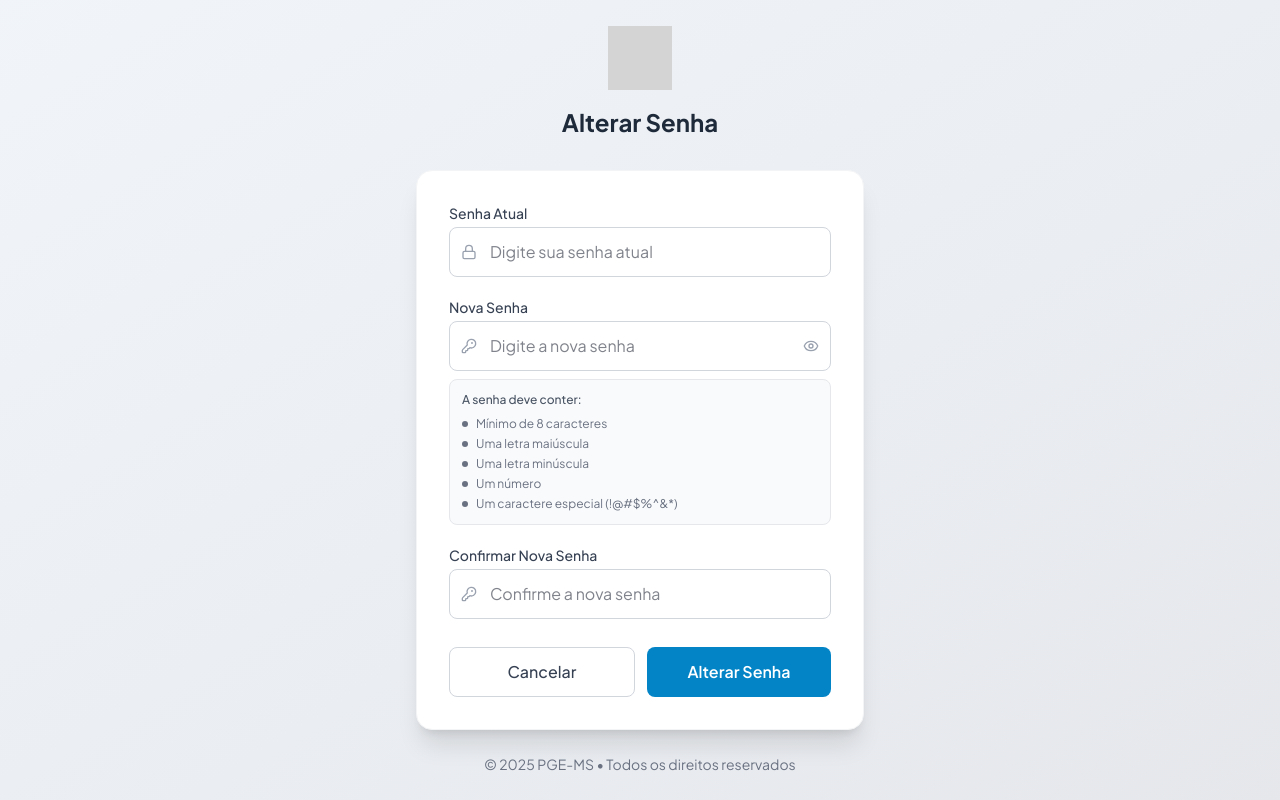
Scenario: ChangePasswordPage › deve exibir erro quando senhas nao coincidem
Type "senhaAtual123" into the password field labelled "Senha Atual" at (640, 252), box [449,227,831,277]
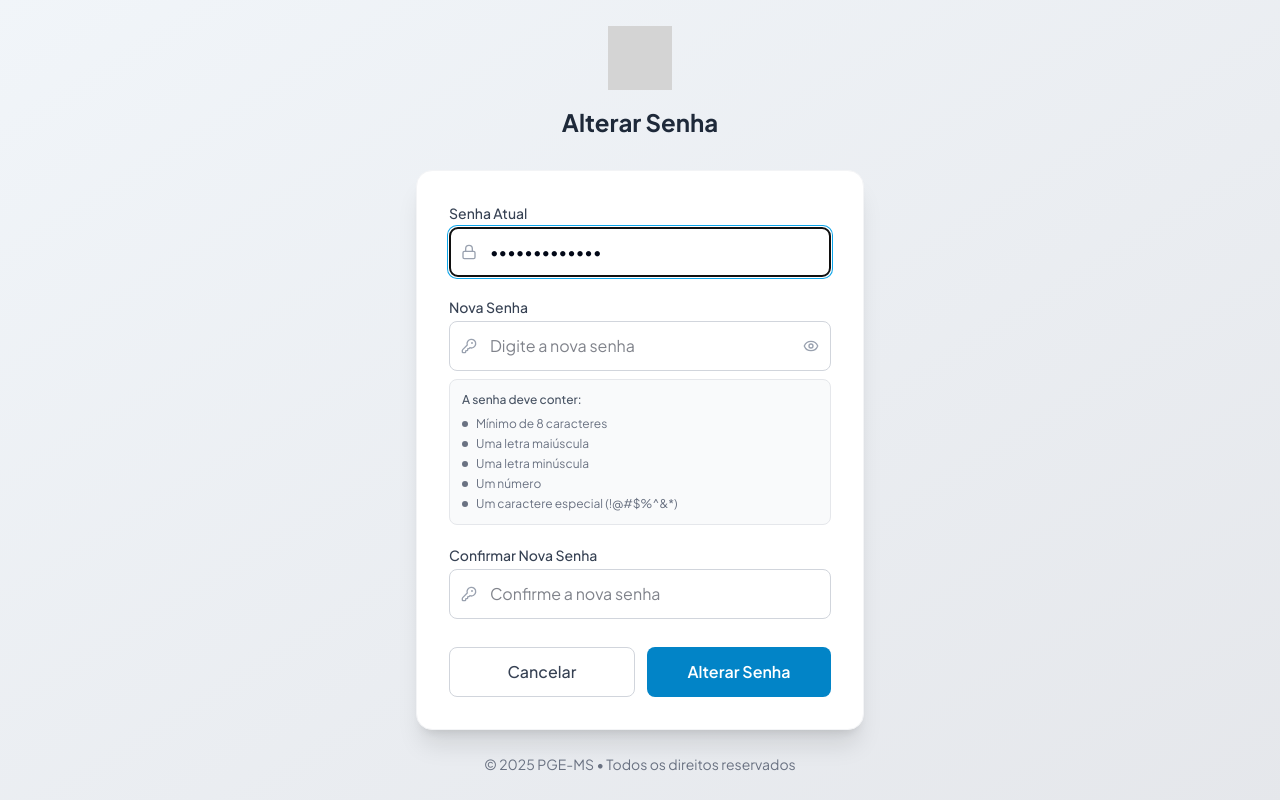
Type "NovaSenha@1" into the password field labelled "Nova Senha" at (640, 346), box [449,321,831,371]
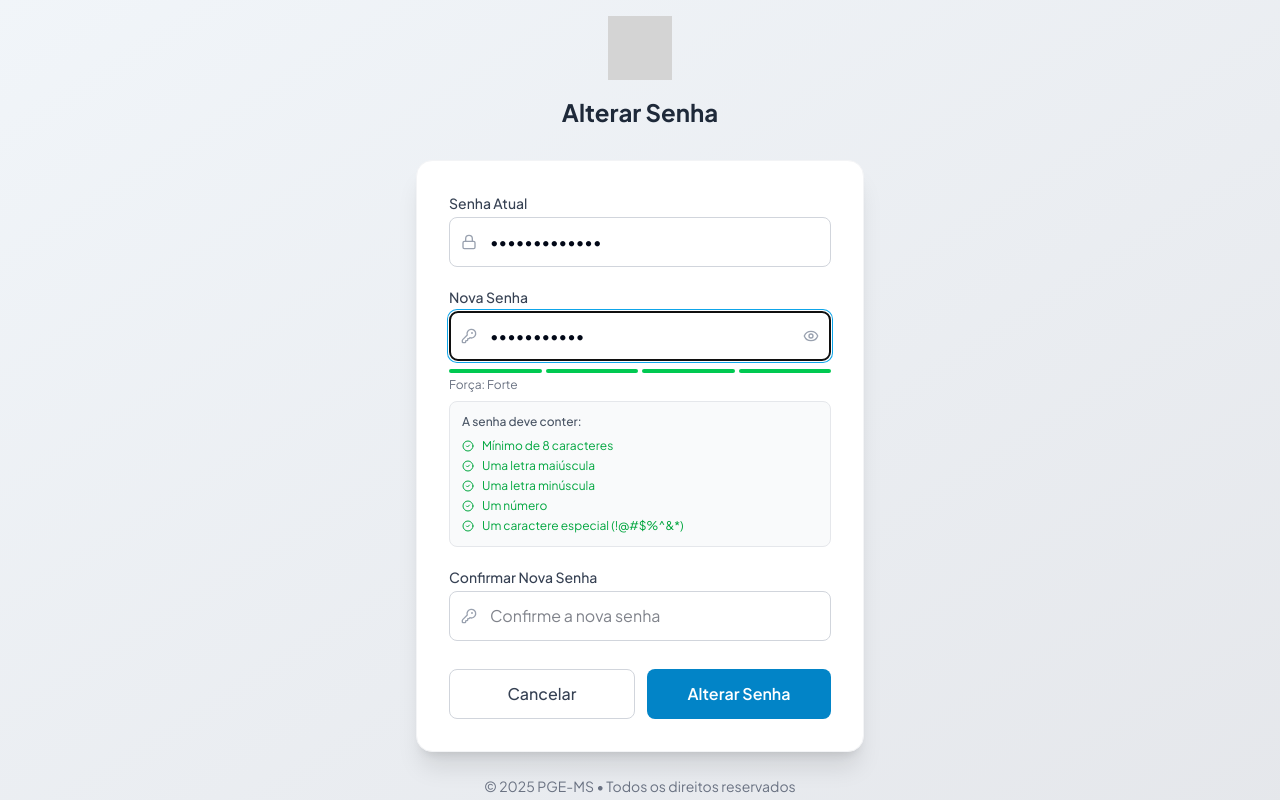
Type "Diferente@1" into the password field labelled "Confirmar Nova Senha" at (640, 616), box [449,591,831,641]
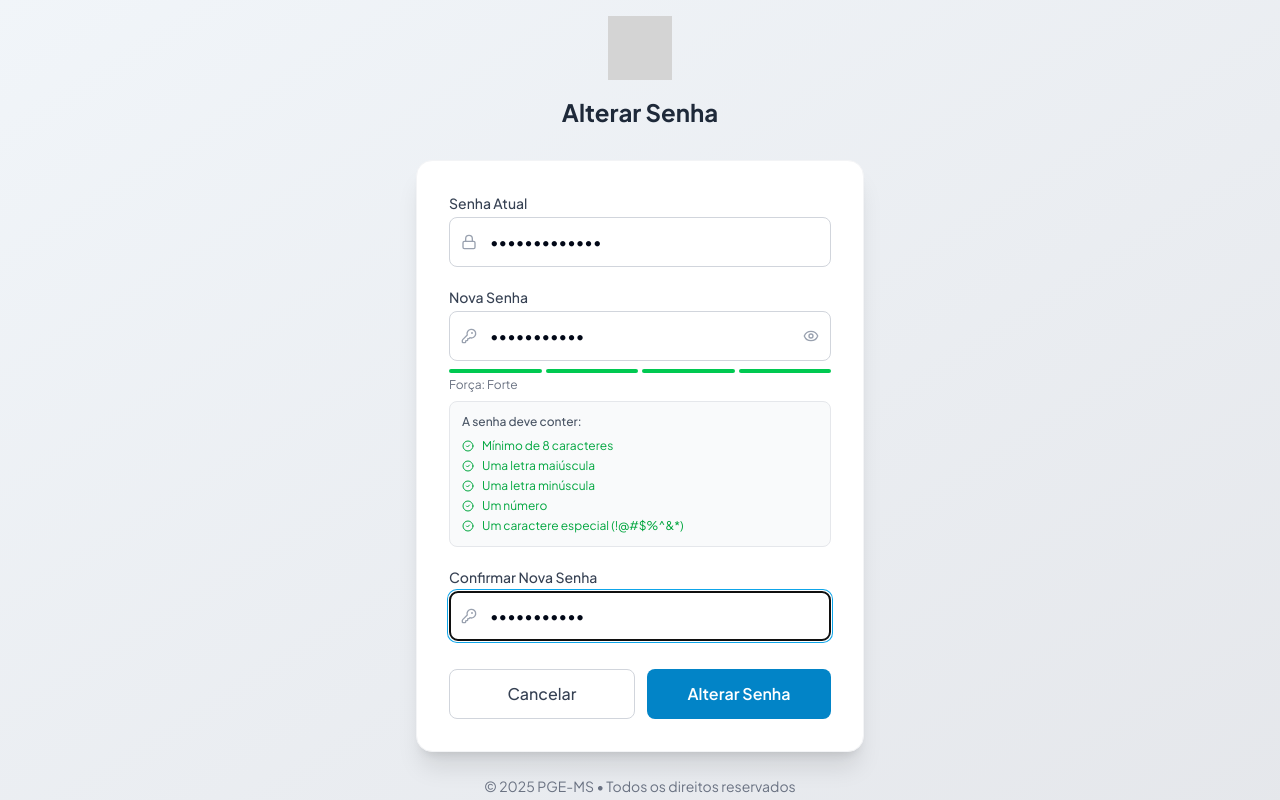
Click the button "Alterar Senha" at (739, 694), box [647,669,831,719]
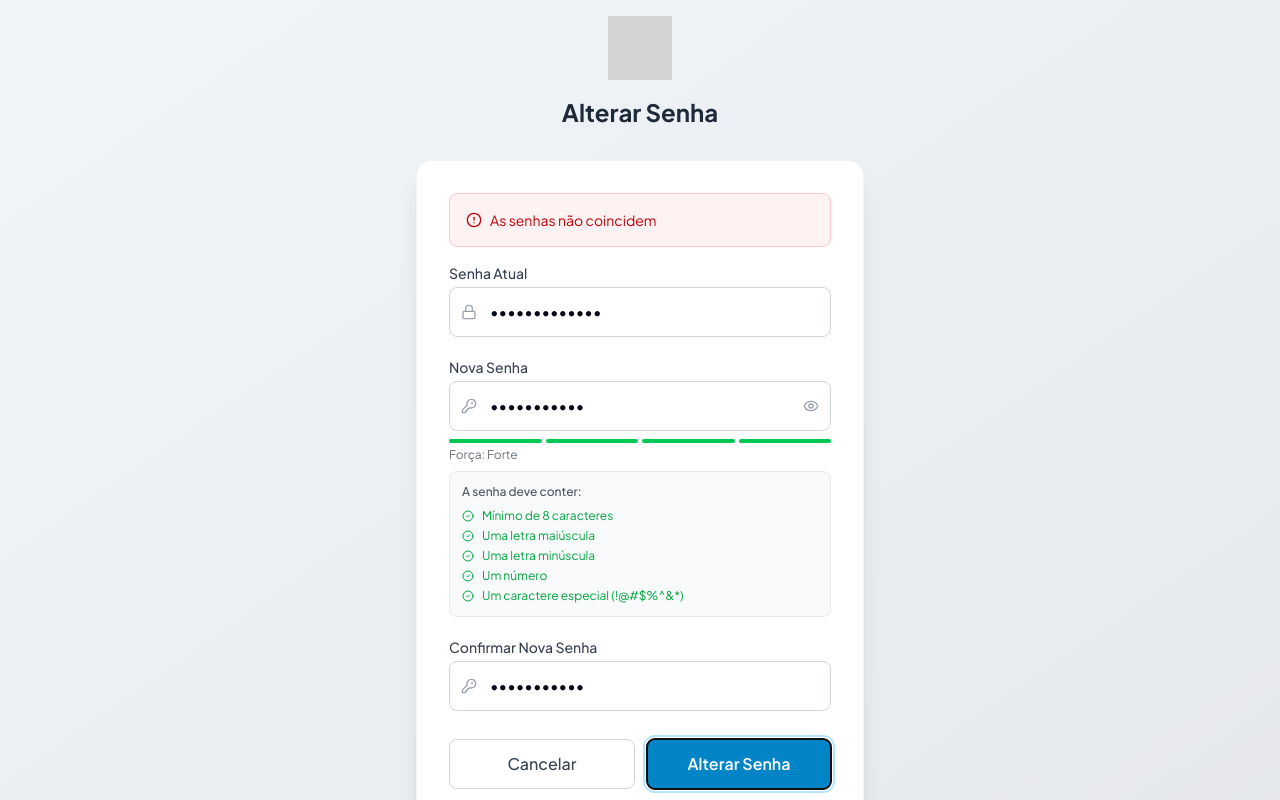
Check: the text "As senhas não coincidem" is shown, box [490,210,657,230]
